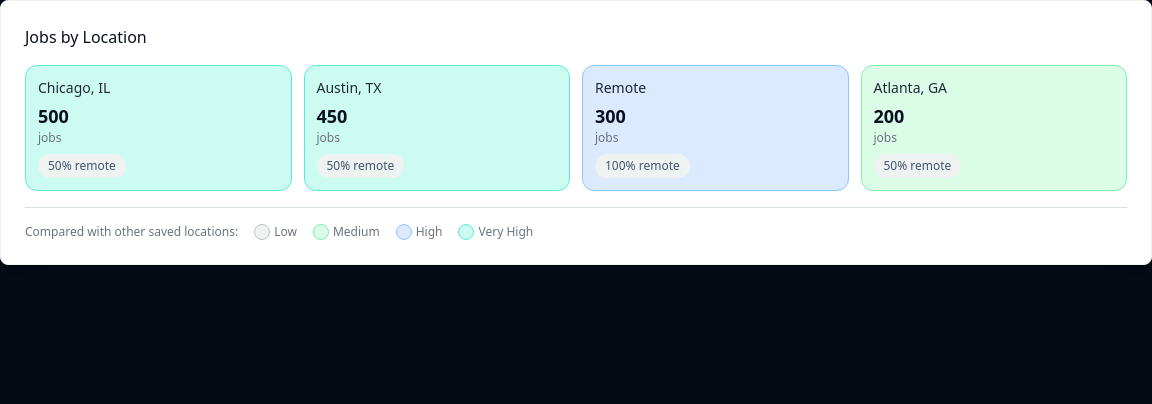
Test case: LocationHeatmap › location selection › shows details when location is clicked
This screenshot has width=1152, height=404.
Click the heading "Chicago, IL".
click(74, 88)  # box [38, 78, 110, 98]
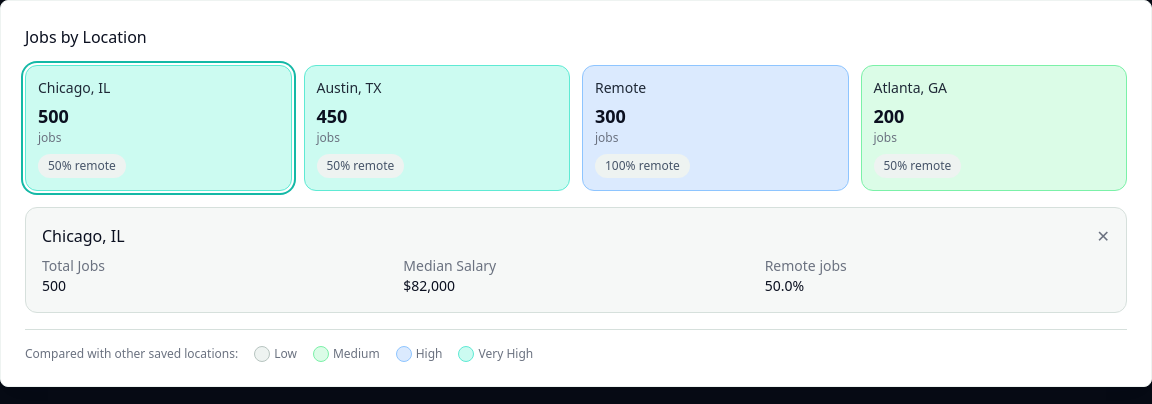
Now the text "Total Jobs" is shown, box [42, 256, 105, 275]
Now the text "Median Salary" is shown, box [403, 256, 496, 275]
Now the text "Remote jobs" is shown, box [765, 256, 847, 275]
